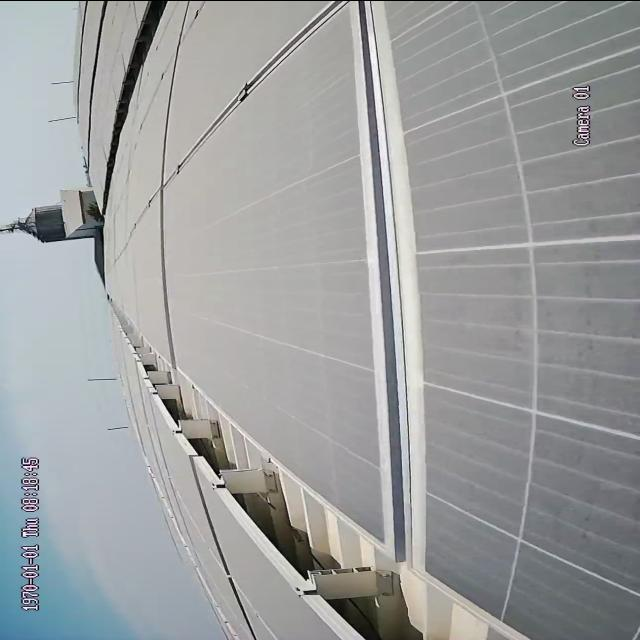interior panel: (158, 2, 334, 354), (343, 0, 421, 555)
outher panel: (123, 329, 519, 637), (110, 0, 173, 137)
